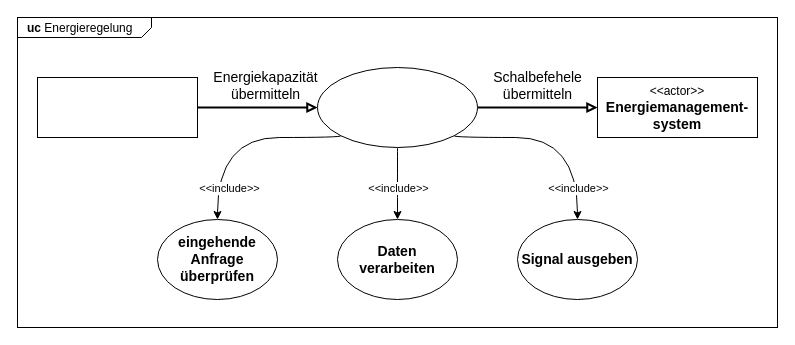
Some shapes in this 795 by 345 pixel diagram are drawn without their labels. The centre of each missing label's shape, as x and y in pixels:
Automatisierungs-system: the point at 117,107
Industrie-4.0-Komponente: the point at 397,107
